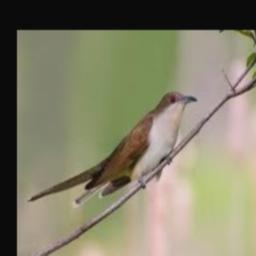Cuckoo: (26, 92, 198, 208)
